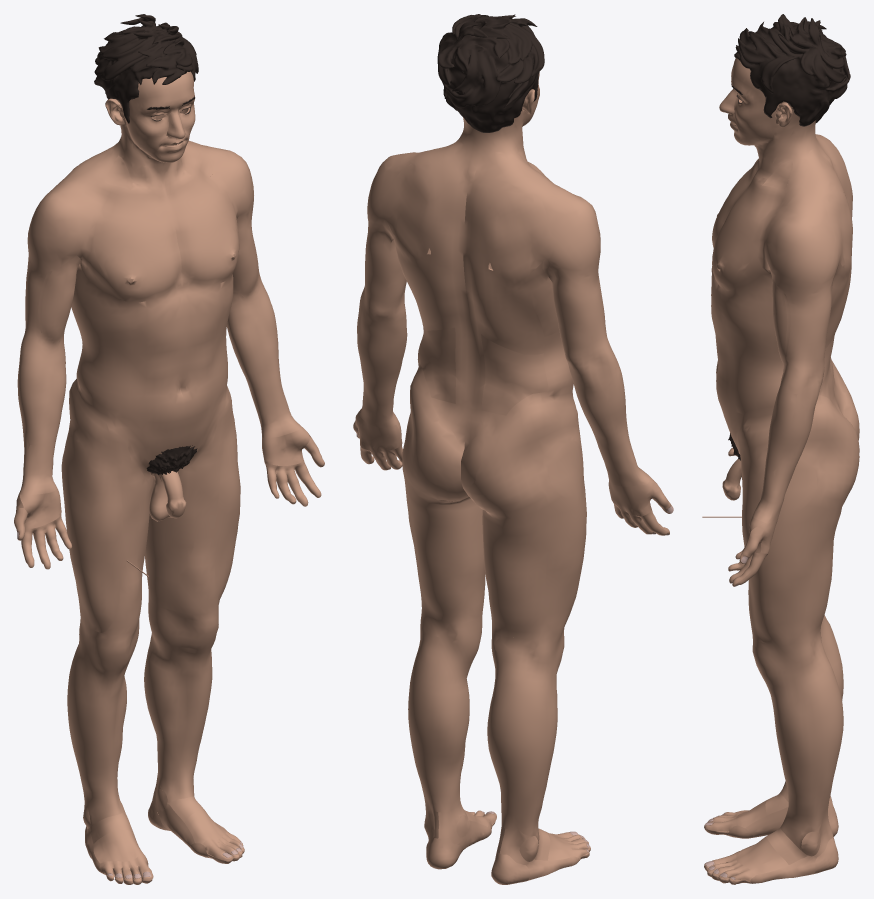
Rendered from body-surface.glb.
The picture shows the model from 3 angles, left to right: view 1: azimuth 30°, elevation 25°; view 2: azimuth 150°, elevation 25°; view 3: azimuth 270°, elevation 25°; orthographic projection. The views are drawn at different scales.
Visible parts, largest first — view 1: skin-surface, hair; view 2: skin-surface, hair; view 3: skin-surface, hair.
Part boxes in pixels (bbox=[...]): skin-surface: bbox=[14, 71, 324, 884]; hair: bbox=[94, 14, 198, 475]; skin-surface: bbox=[353, 72, 672, 884]; hair: bbox=[437, 14, 544, 132]; skin-surface: bbox=[702, 58, 859, 884]; hair: bbox=[728, 14, 850, 460].
Size of the model in its own units: 68.01 by 174 by 29.71.
